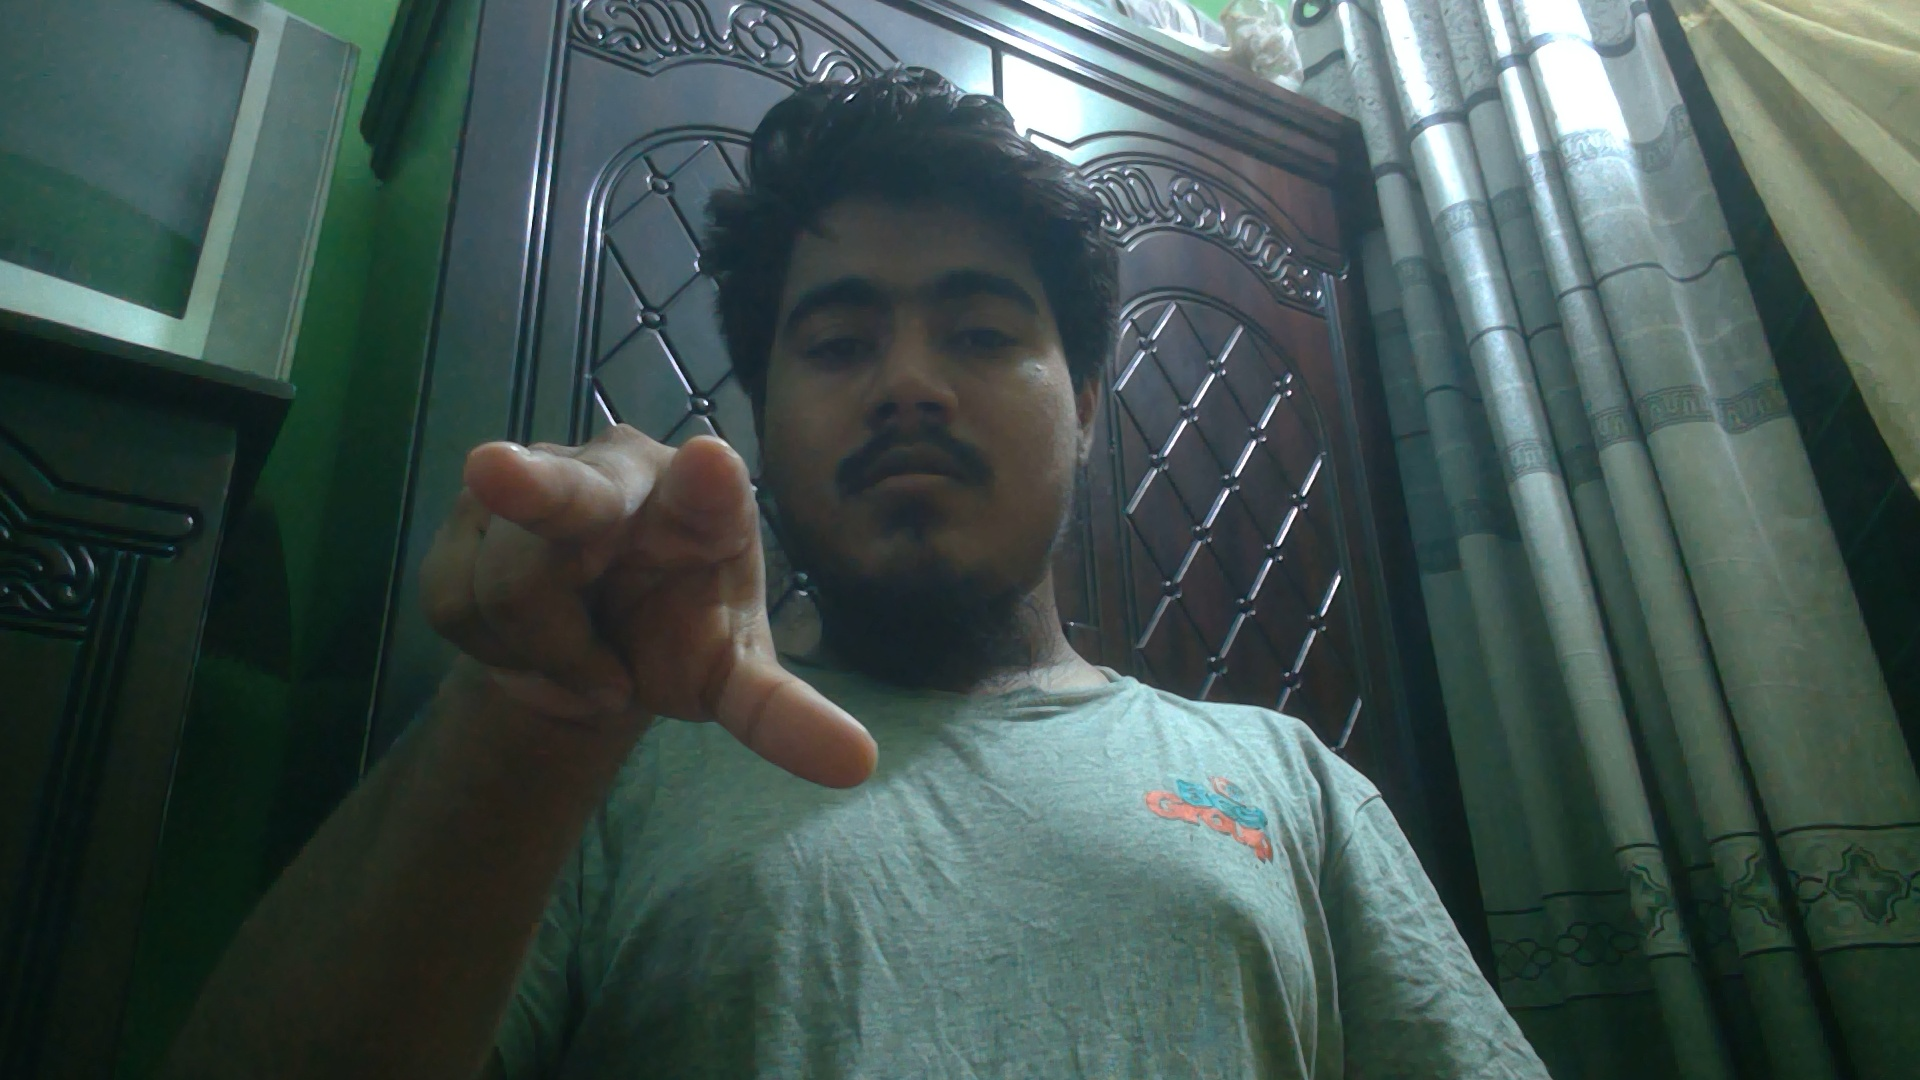No: (414, 415, 897, 802)
